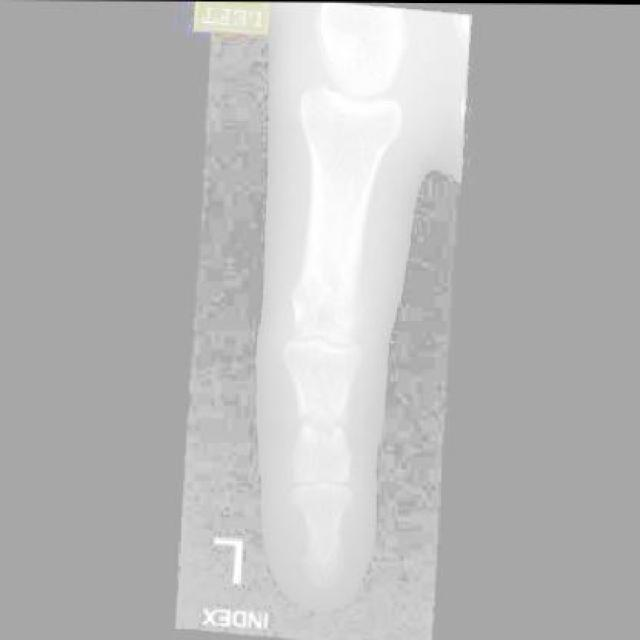Fracture: (288, 396, 359, 458)
